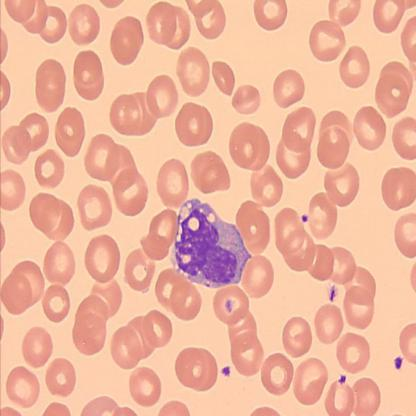Monocyte: (168, 196, 254, 292)
